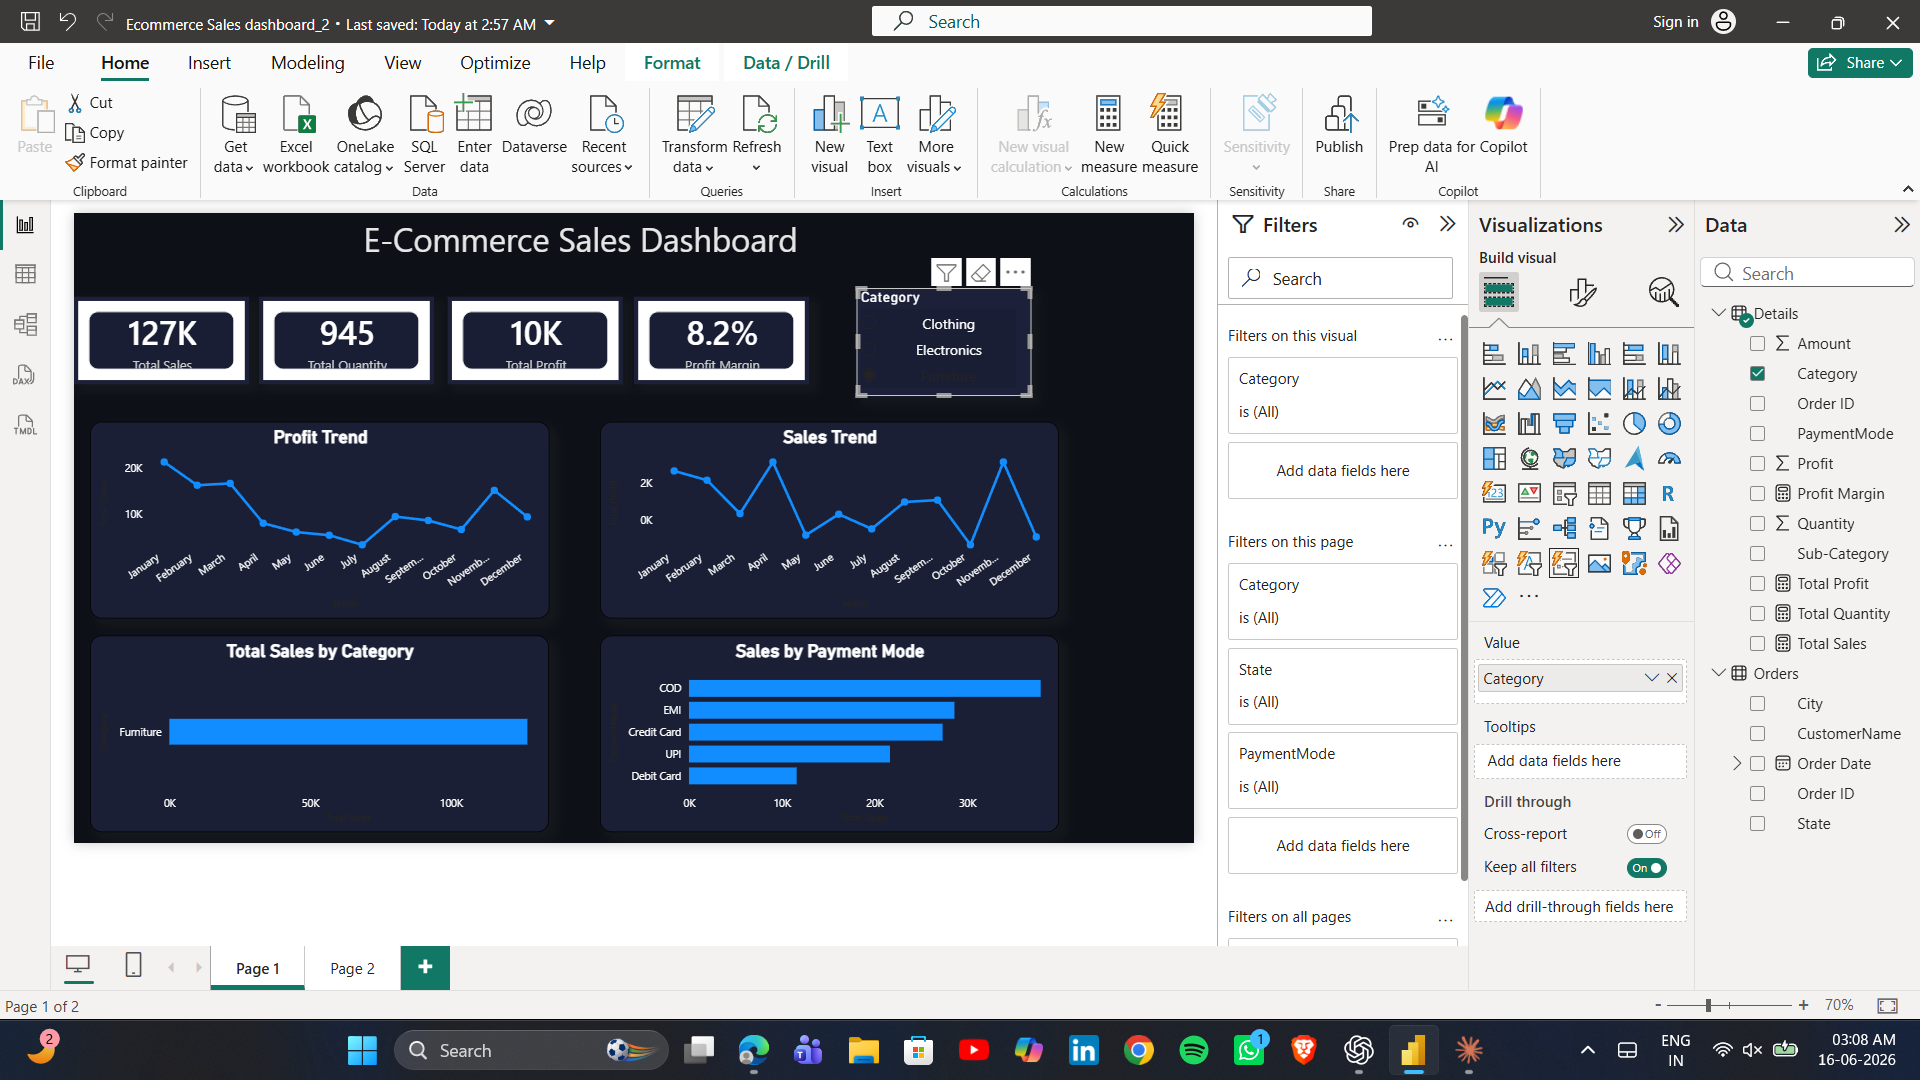

What the dashboard file says about the page in this screenshot:
{"tool":"powerbi","page":{"name":"Page 1","canvas":[1280,720],"ordinal":0},"visuals":[{"type":"cardVisual","fields":{"Data":["Details.Total Sales"]},"box":[0,95,200,100.2],"z":0},{"type":"cardVisual","fields":{"Data":["Details.Total Profit"]},"box":[427.5,95,200,100],"z":1000},{"type":"cardVisual","fields":{"Data":["Details.Total Quantity"]},"box":[211.2,95,200,100],"z":2000},{"type":"listSlicer","fields":{"Values":["Details.Category"]},"box":[894.3,85.7,200,124.3],"z":3000},{"type":"lineChart","title":"Profit Trend","fields":{"Category":["Orders.Order Date.Variation.Date Hierarchy.Month"],"Y":["Details.Total Sales"]},"box":[18.8,238.8,525,225],"z":4000},{"type":"lineChart","title":"Sales Trend","fields":{"Category":["Orders.Order Date.Variation.Date Hierarchy.Month"],"Y":["Details.Total Profit"]},"box":[601.2,238.8,523.8,225],"z":5000},{"type":"clusteredBarChart","fields":{"Category":["Details.Category"],"Y":["Details.Total Sales"]},"box":[19,483,524,225],"z":9000},{"type":"clusteredBarChart","title":" Sales by Payment Mode","fields":{"Category":["Details.PaymentMode"],"Y":["Details.Total Sales"]},"box":[601.2,482.5,523.8,225],"z":10000},{"type":"textbox","box":[180,0,797.5,95],"z":11000},{"type":"cardVisual","fields":{"Data":["Details.Profit Margin"]},"box":[640,95,200,100],"z":11001}]}

Visuals, with their boxes on the page's 1280x720 design canvas (x1, y1, x2, y2). These are canvas units, not pixel positions in the 1920x1080 screenshot, which may show the page scaled, cropped or inside an application window:
cardVisual - Details.Total Sales: 0 95 200 195
cardVisual - Details.Total Profit: 428 95 628 195
cardVisual - Details.Total Quantity: 211 95 411 195
listSlicer - Details.Category: 894 86 1094 210
"Profit Trend" lineChart: 19 239 544 464
"Sales Trend" lineChart: 601 239 1125 464
clusteredBarChart - Details.Category x Details.Total Sales: 19 483 543 708
" Sales by Payment Mode" clusteredBarChart: 601 482 1125 708
textbox: 180 0 978 95
cardVisual - Details.Profit Margin: 640 95 840 195
